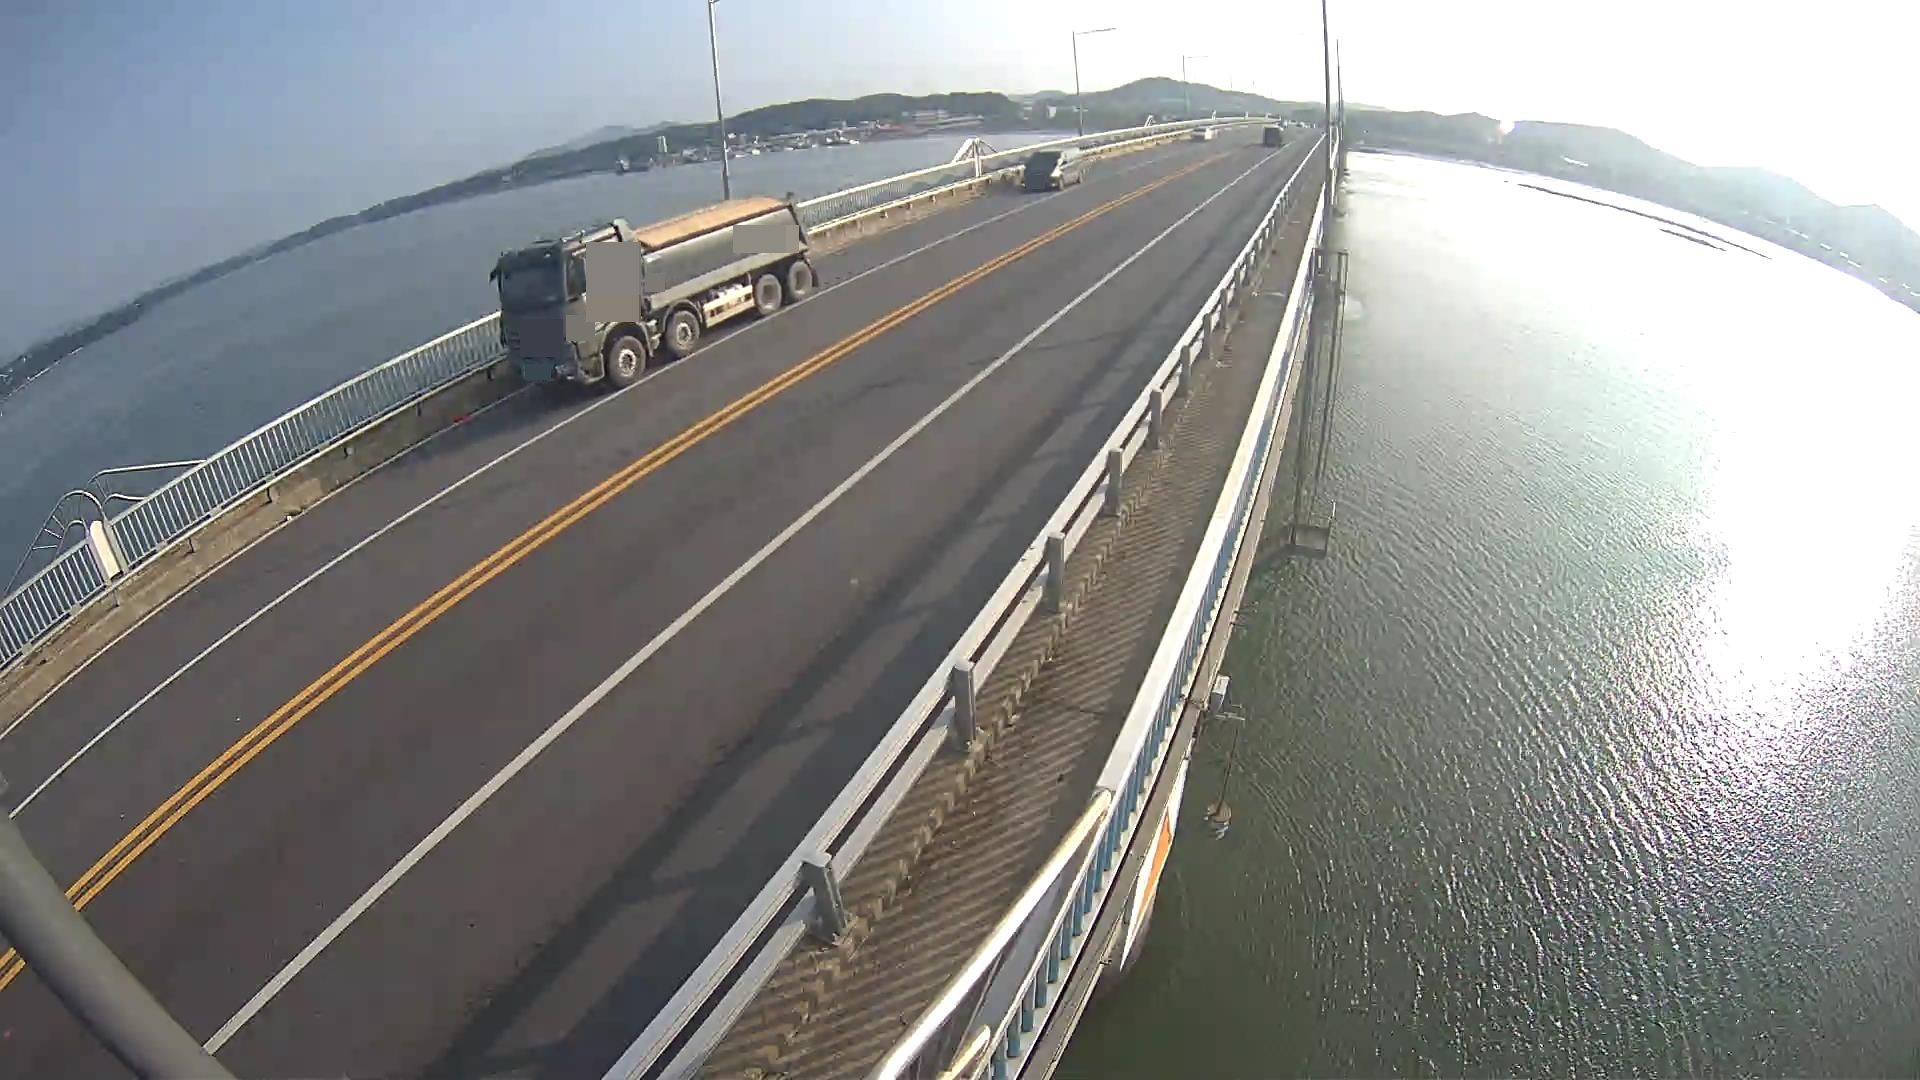정상차량: (488, 191, 819, 390)
